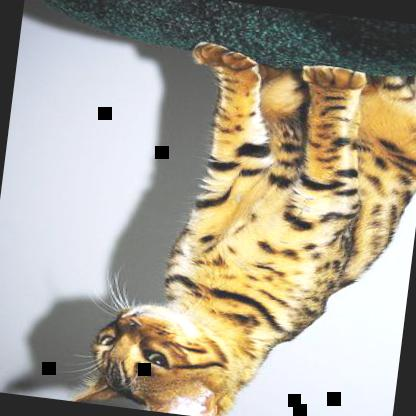cat: (59, 28, 415, 415)
